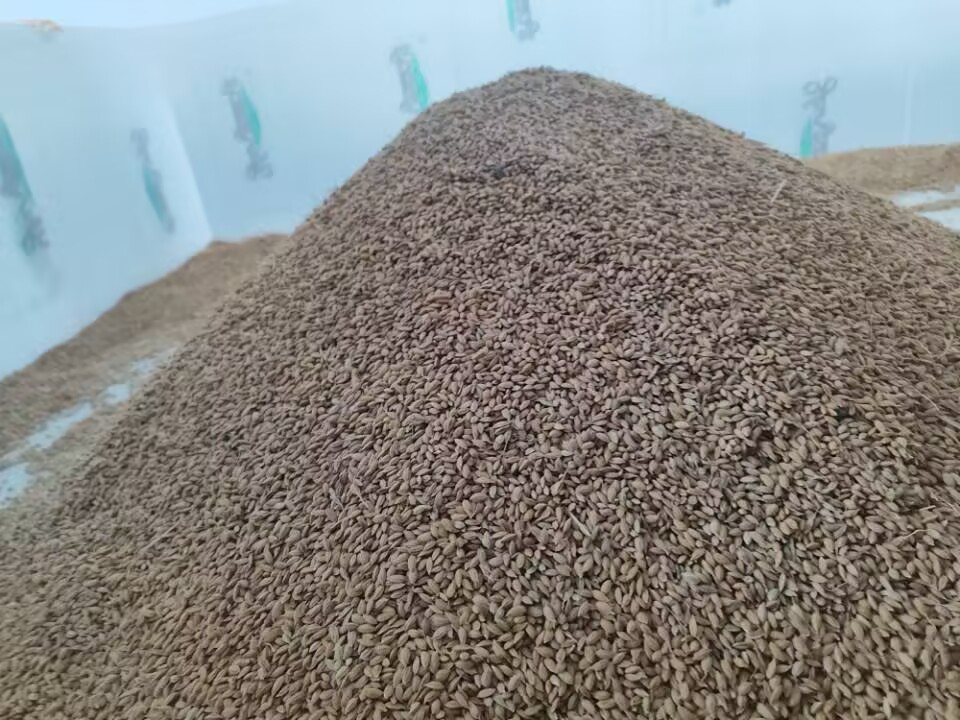Grain: (111, 63, 947, 696)
